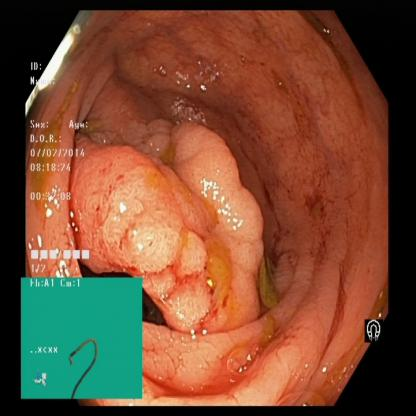Labels: (25, 56, 144, 277), (21, 278, 142, 399)
Polyps: (151, 129, 257, 336), (70, 155, 177, 274)
